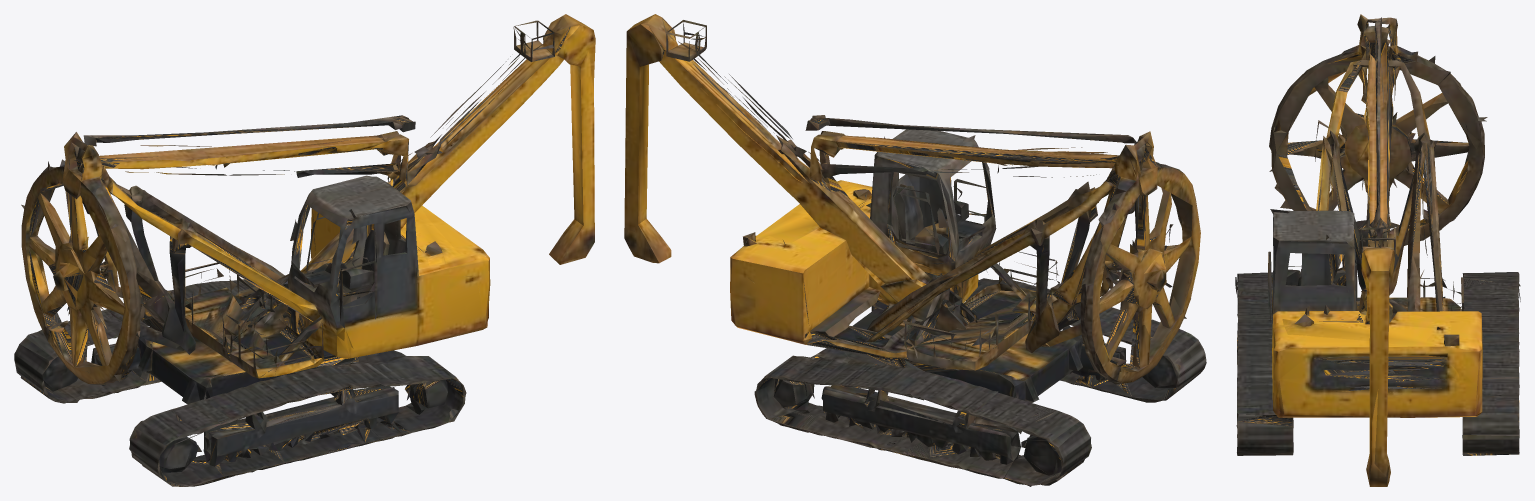
File: mining_excavator.glb
The picture shows the model from 3 angles, left to right: view 1: azimuth 30°, elevation 25°; view 2: azimuth 150°, elevation 25°; view 3: azimuth 270°, elevation 25°; orthographic projection. The views are drawn at different scales.
Visible parts, largest first — view 1: turn, mesh_lod; view 2: turn, mesh_lod; view 3: turn, mesh_lod.
Boxes of the visible parts, x1,y1,x2,y2 form: turn: (14, 14, 595, 486); mesh_lod: (20, 26, 594, 486); turn: (624, 14, 1206, 486); mesh_lod: (624, 17, 1199, 485); turn: (1235, 14, 1520, 486); mesh_lod: (1237, 19, 1519, 486).
Size of the model in its own units: 29.29 by 16 by 13.79.
1 material, 1 textured.
